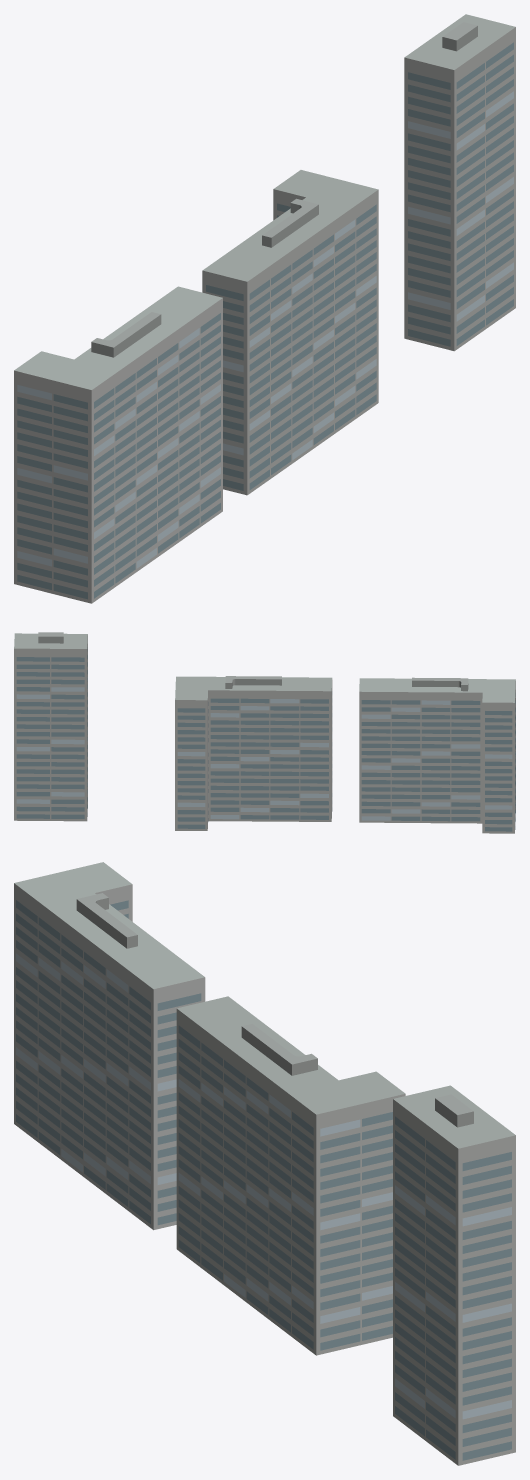
File: apt-a13480803.glb
3 renders of one model, top to bottom at view 1: azimuth 30°, elevation 25°; view 2: azimuth 150°, elevation 25°; view 3: azimuth 270°, elevation 25°, orthographic. The views are drawn at different scales.
Parts seen in each view (by area): view 1: apt-a13480803; view 2: apt-a13480803; view 3: apt-a13480803.
Part boxes in pixels (bbox=[...]): apt-a13480803: bbox=[14, 14, 515, 603]; apt-a13480803: bbox=[14, 632, 515, 833]; apt-a13480803: bbox=[14, 862, 515, 1465].
Size of the model in its own units: 151 by 64 by 88.37.
